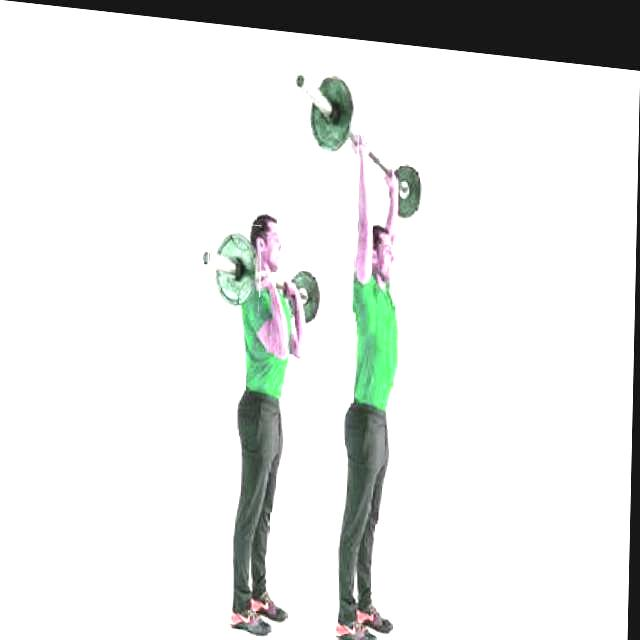barbell: (303, 59, 362, 153), (210, 216, 263, 306)
